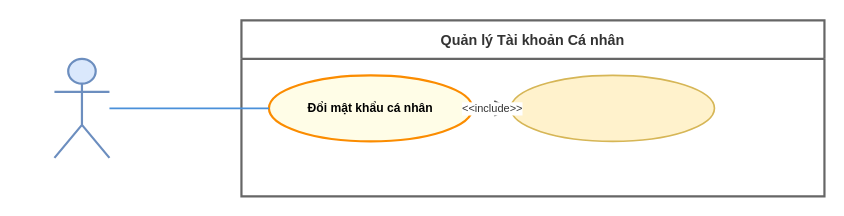
The diagram is 844 pixels wide and 216 high, and some of its shapes have lost their labels. The box of each missing label's shape, as (x1, y1, x2, y2) in pixels:
Mã hóa mật khẩu bằng BCrypt: (510, 74, 715, 142)
Quản trị viên (ADMIN): (53, 57, 110, 158)
